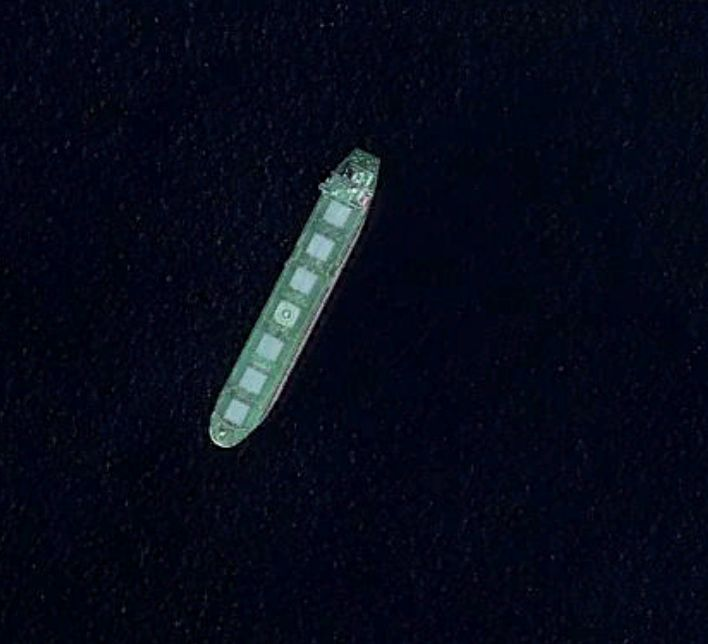boat: (207, 146, 381, 449)
